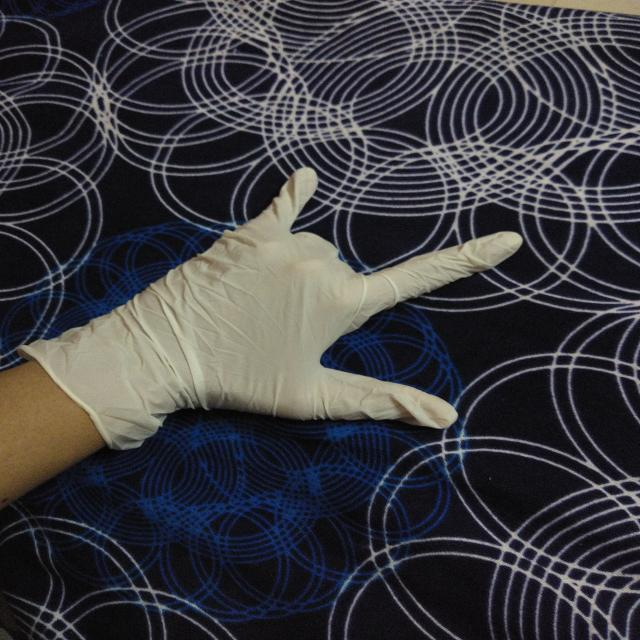glove_hand: (22, 158, 527, 458)
